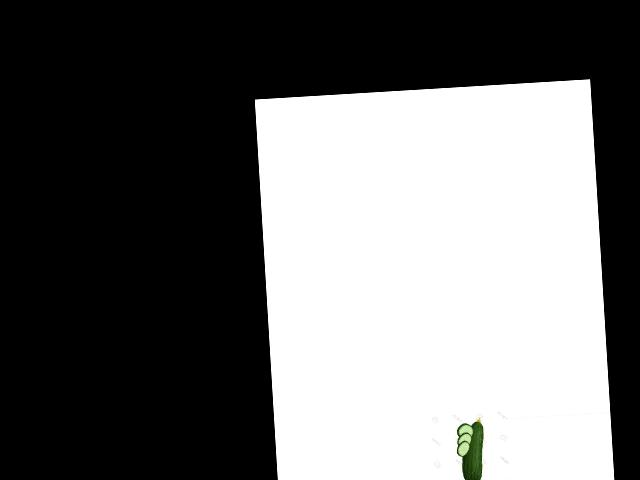cucumber: (459, 417, 486, 480)
